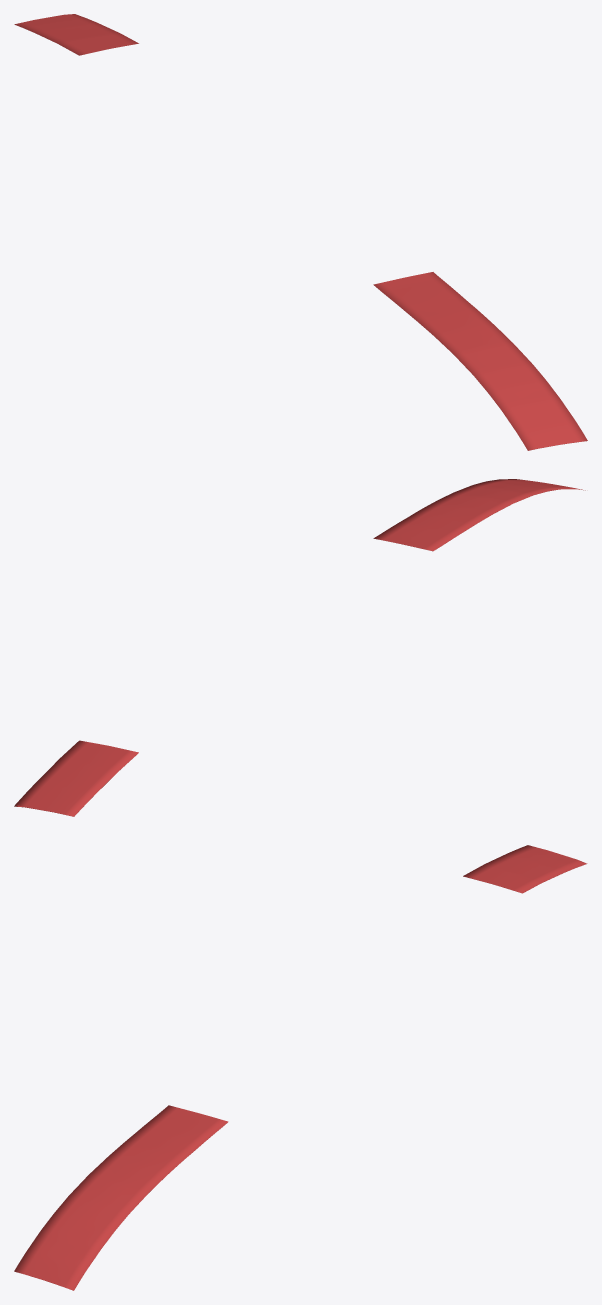
File: DT69_offset_stripe_red.glb
3 views of the same model, one above another, from view 1: azimuth 30°, elevation 25°; view 2: azimuth 150°, elevation 25°; view 3: azimuth 330°, elevation 25° (orthographic).
Visible parts, largest first — view 1: MOD_ND_DT69_bonnet, MOD_ND_DT69_boot; view 2: MOD_ND_DT69_bonnet, MOD_ND_DT69_boot; view 3: MOD_ND_DT69_bonnet, MOD_ND_DT69_boot.
Part boxes in pixels (x1,y1,x2,y2): MOD_ND_DT69_bonnet: [373, 272, 587, 450]; MOD_ND_DT69_boot: [14, 14, 138, 55]; MOD_ND_DT69_bonnet: [373, 479, 585, 551]; MOD_ND_DT69_boot: [14, 740, 138, 816]; MOD_ND_DT69_bonnet: [14, 1105, 228, 1290]; MOD_ND_DT69_boot: [463, 845, 587, 893].
Size of the model in its own units: 0.2402 by 0.2737 by 3.56.
